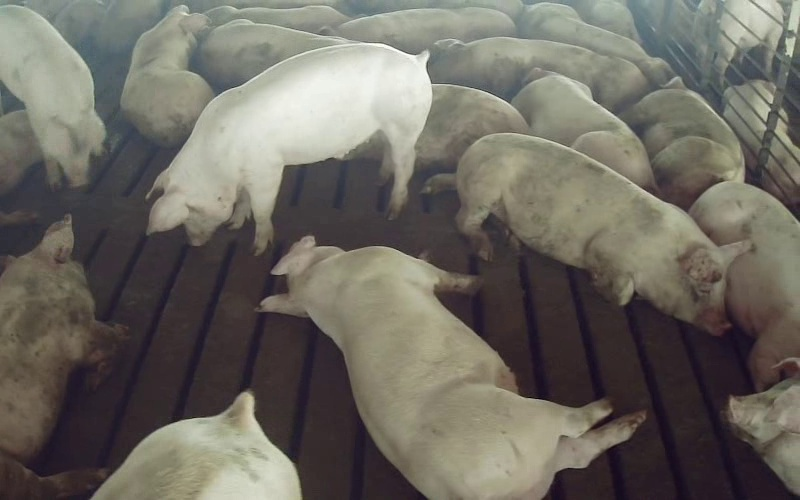pig: (260, 237, 645, 499), (147, 43, 431, 254), (456, 133, 748, 334), (0, 215, 126, 499), (689, 182, 799, 390), (511, 68, 657, 192), (428, 37, 649, 112), (620, 77, 743, 209), (516, 2, 674, 85), (121, 6, 213, 147), (319, 7, 515, 53)
